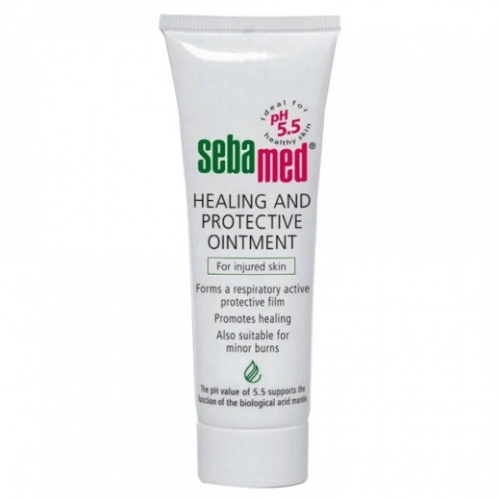Medicine: (157, 9, 351, 494)
